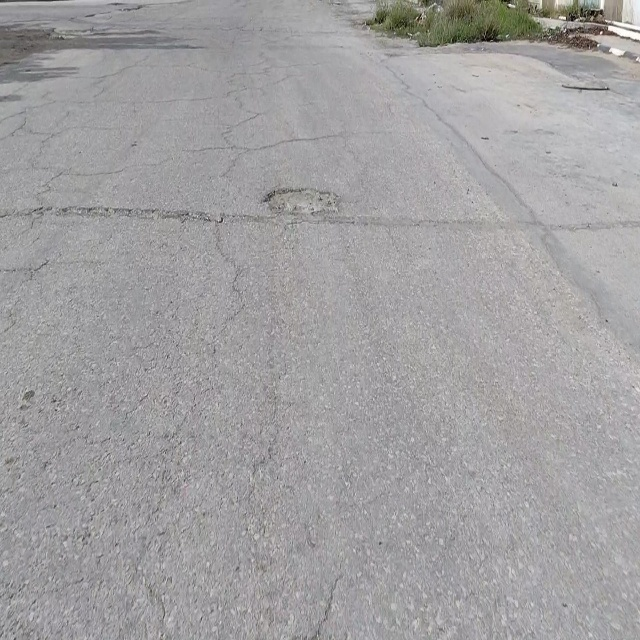pothole: (263, 187, 340, 214)
